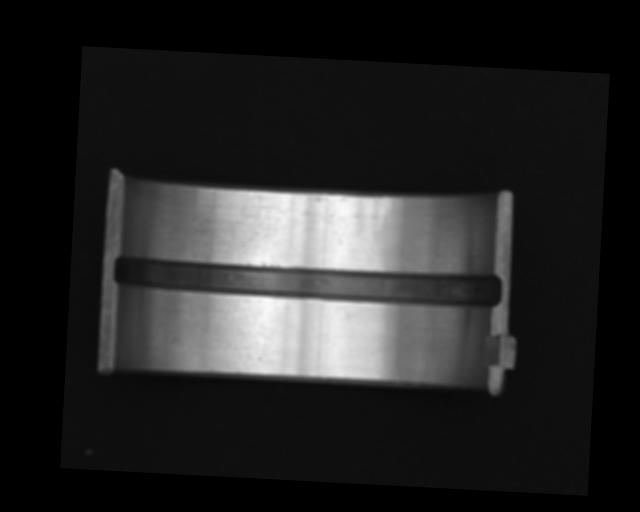gap: (111, 251, 505, 310)
